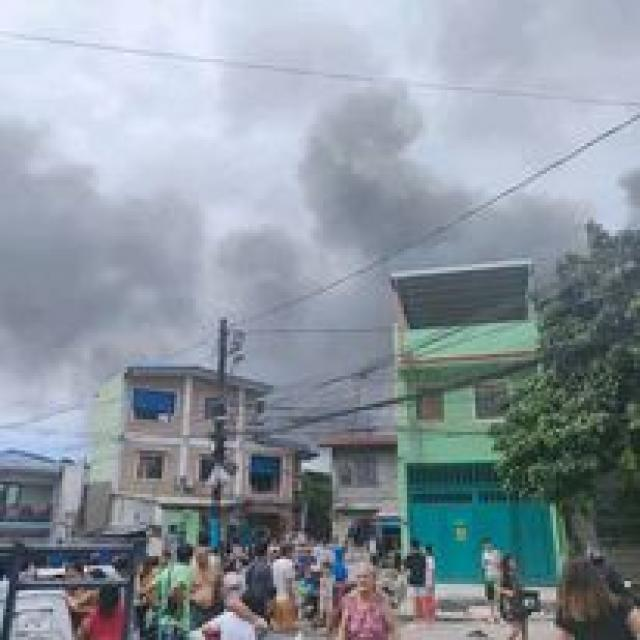Smoke: (284, 70, 562, 252), (5, 154, 252, 330)
